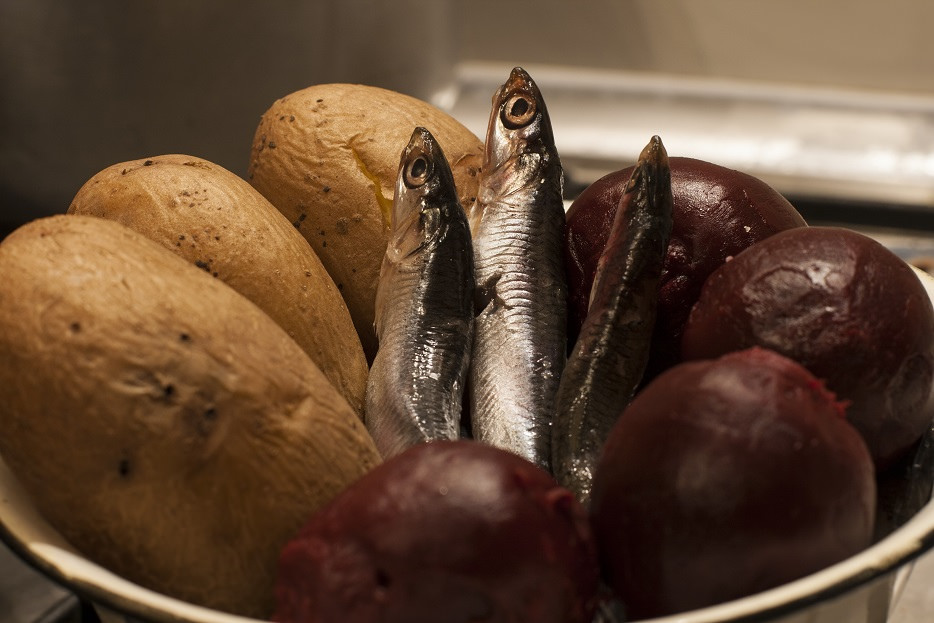boiled potatoes: (2, 216, 378, 590), (71, 140, 357, 392), (247, 58, 489, 329)
